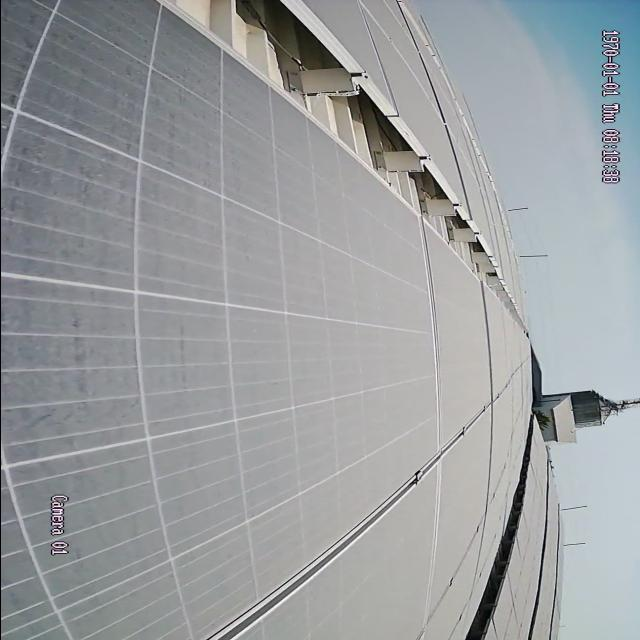interior panel: (206, 398, 489, 639)
outher panel: (160, 2, 513, 311), (466, 478, 529, 637)
